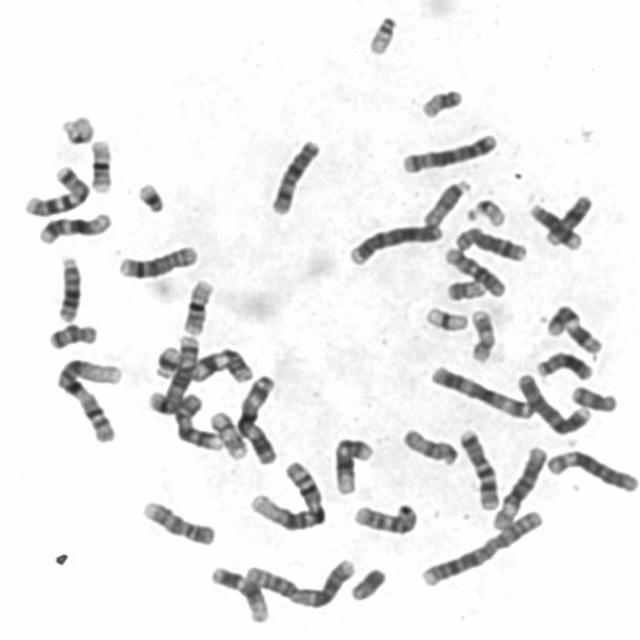A1: (53, 356, 128, 446), (248, 459, 328, 531)
A2: (420, 508, 543, 589), (243, 557, 356, 608)
A3: (428, 364, 537, 422), (236, 373, 280, 463)
B4: (516, 372, 592, 436), (348, 225, 446, 268)
B5: (147, 335, 199, 417), (402, 132, 501, 174)
C10: (443, 247, 506, 298), (352, 504, 422, 535)
C11: (546, 302, 603, 355), (187, 348, 255, 384)
C12: (208, 567, 272, 623), (328, 434, 374, 496), (37, 210, 111, 246)
C6: (490, 442, 548, 532), (546, 448, 638, 496)
C7: (457, 426, 503, 511), (22, 164, 92, 219)
C8: (117, 244, 202, 278), (454, 225, 528, 262)
C9: (137, 499, 218, 547), (174, 392, 223, 453)
D13: (54, 258, 83, 323), (536, 351, 596, 382)
D14: (526, 203, 583, 251), (544, 196, 594, 247)
D15: (399, 427, 458, 468), (423, 180, 473, 227)
E16: (181, 275, 216, 335), (89, 137, 112, 197)
E17: (208, 410, 248, 460), (469, 308, 497, 365)
E18: (570, 384, 617, 415), (47, 324, 98, 351)
F19: (424, 306, 471, 335), (61, 115, 95, 144)
F20: (418, 87, 464, 118), (444, 276, 488, 301)
G21: (132, 180, 170, 214), (151, 344, 180, 380)
G22: (363, 15, 401, 56), (466, 198, 510, 230)
X: (266, 137, 322, 214)
Y: (346, 567, 386, 603)
